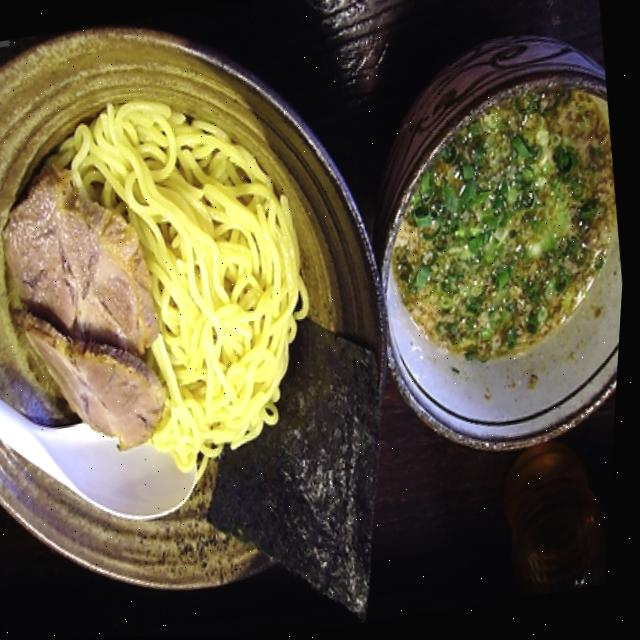面条主食: (0, 4, 639, 467)
